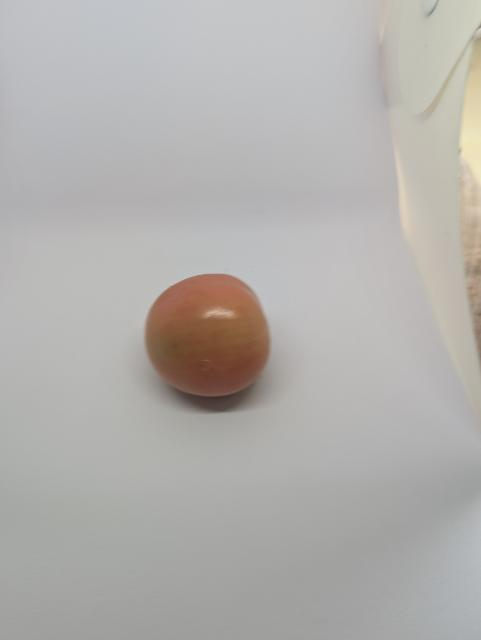turning: (141, 268, 281, 403)
